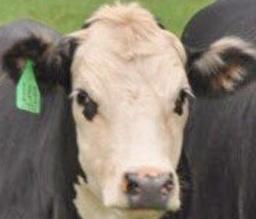muzzles: (103, 165, 181, 217)
